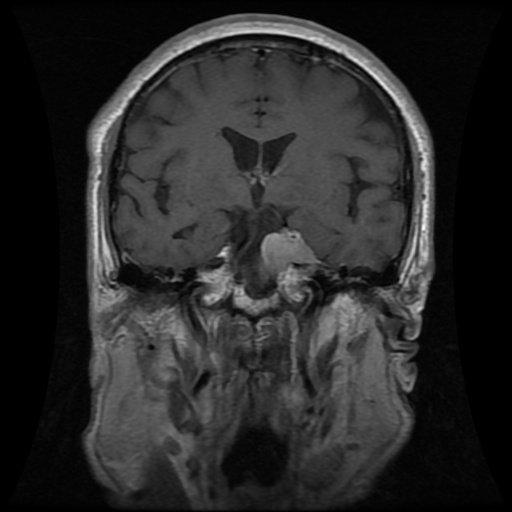meningioma: (261, 226, 315, 277)
